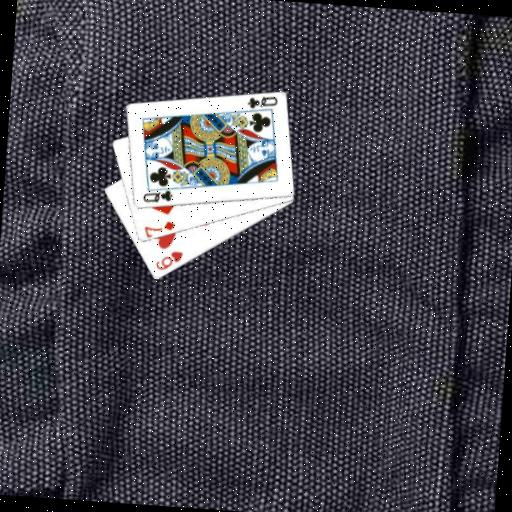6H: (153, 247, 185, 273)
7D: (141, 217, 177, 240)
QC: (140, 186, 175, 206), (245, 92, 280, 112)
